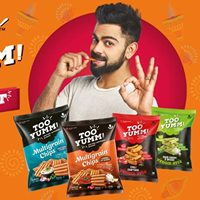plastic: (66, 118, 126, 192), (27, 106, 68, 191), (113, 114, 158, 183), (150, 108, 191, 171)
tooyumm: (32, 120, 58, 137), (73, 131, 109, 142), (122, 123, 148, 137), (159, 116, 185, 129)
wrapper: (14, 116, 71, 188), (66, 122, 122, 191), (115, 119, 157, 181), (151, 111, 193, 173)
